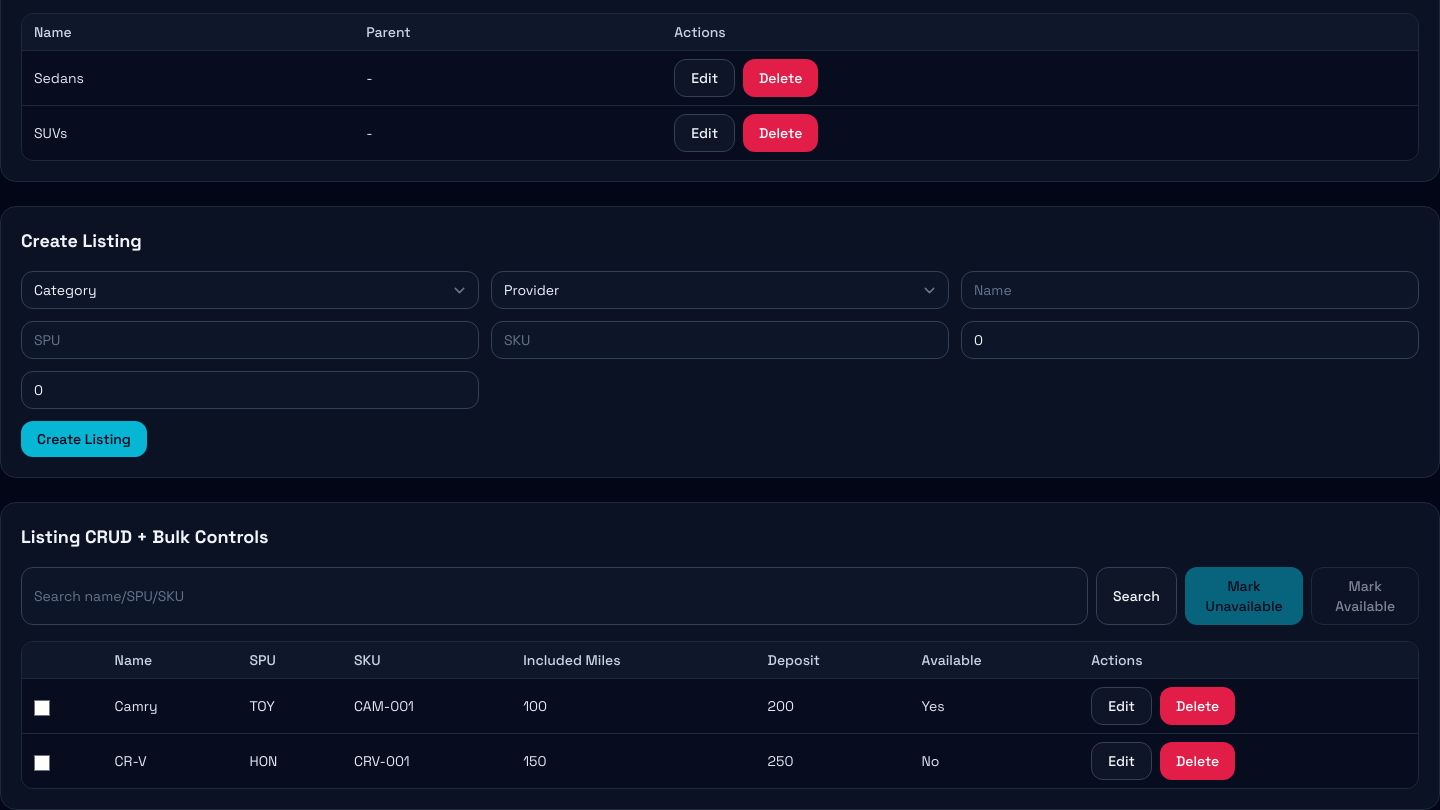
AdminCatalogPage › listing edit form appears after clicking Edit on a listing row
(page scrolled)
Expected: the text "Camry" is shown, [103,678,238,734]
Note: First 2 are category rows, next are listing rows
What coordinates should you click on to do the following:
click the button "Edit" in the row of "CR-V"
I would click on:
 (1122, 761)
Its box is [1091,742,1152,780].
(page scrolled)
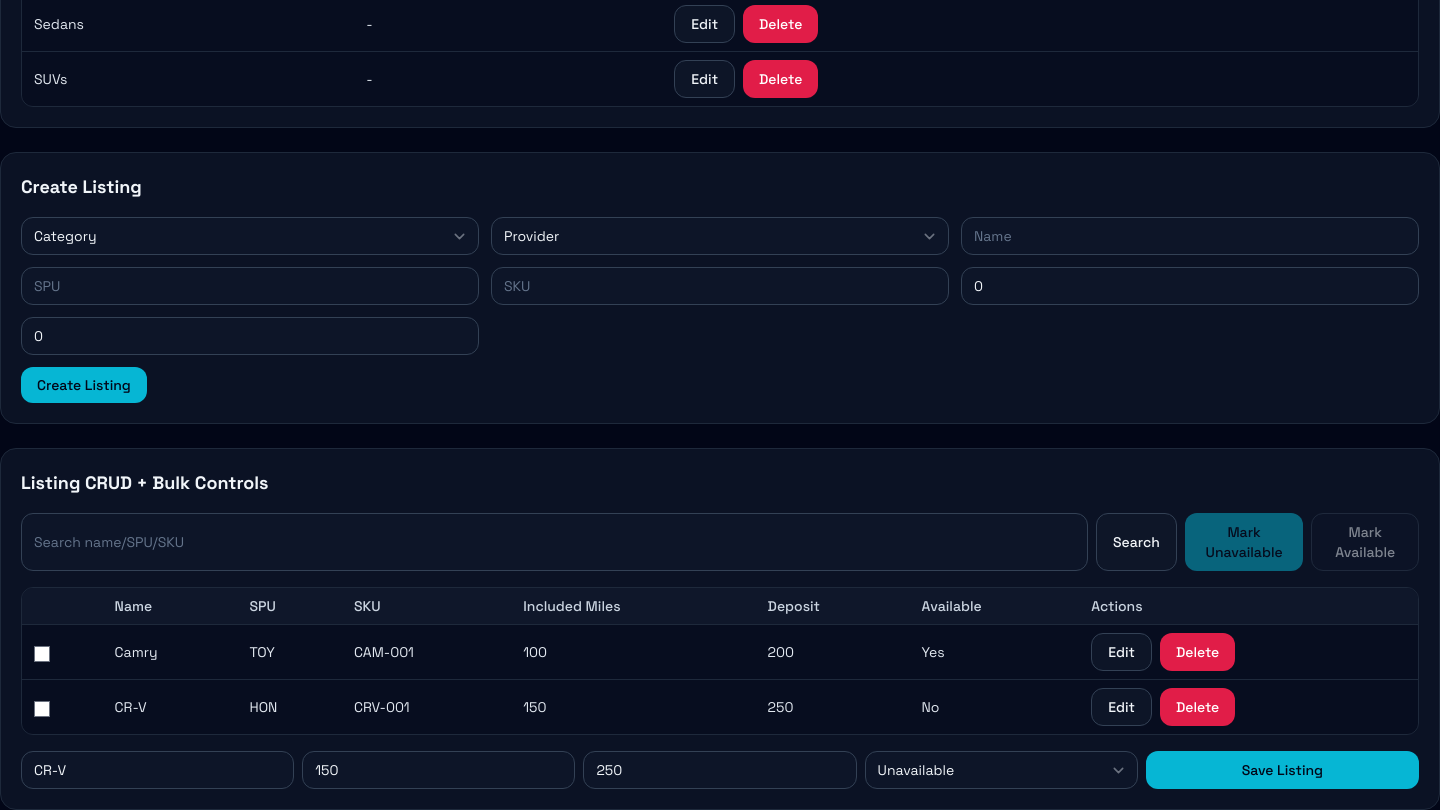
Expected: the button "Save Listing" is shown, [1146,751,1419,789]
